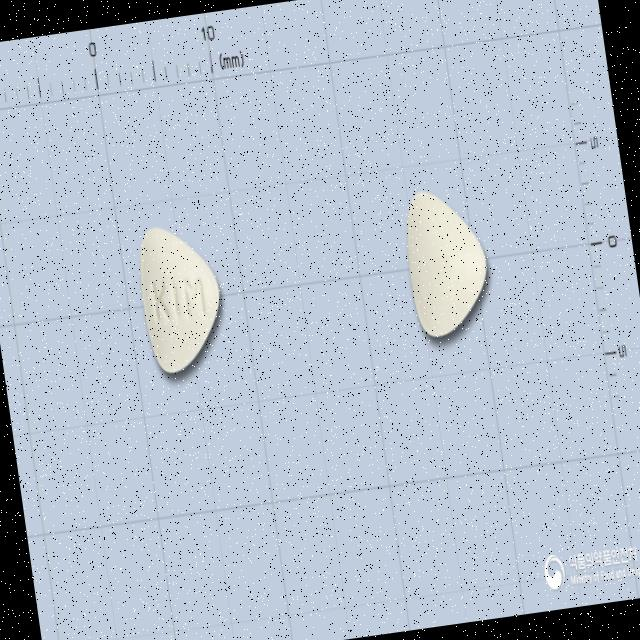Kimara: (398, 184, 498, 342), (133, 219, 231, 377)
